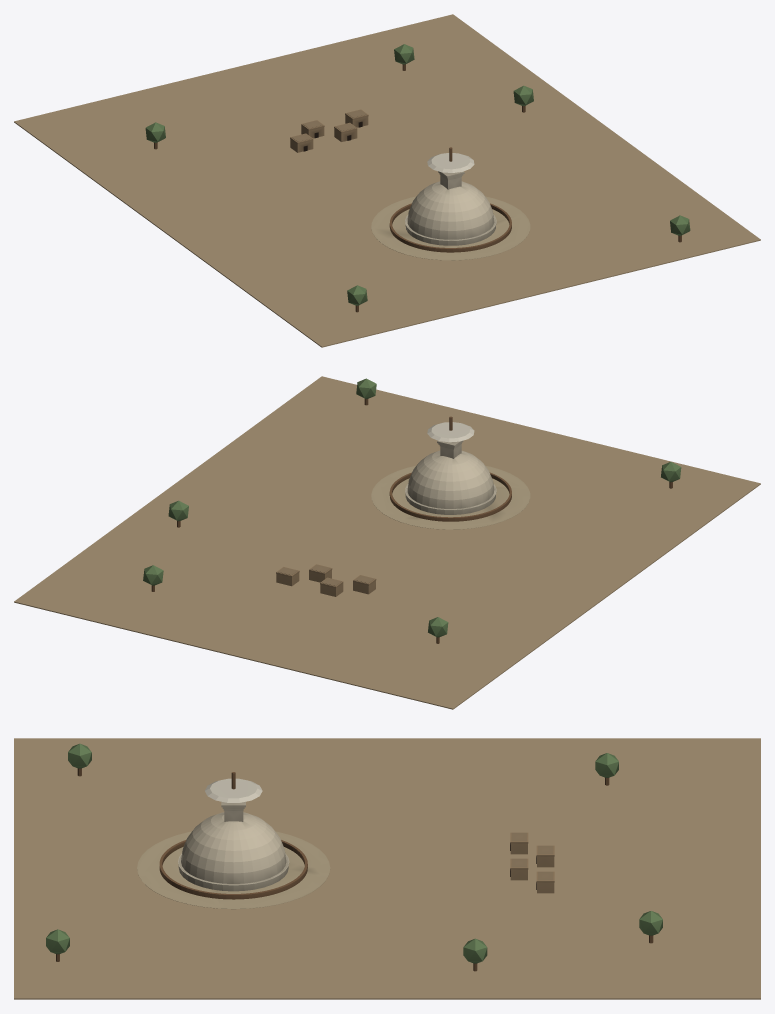
Rendered from dharmarajika-early.glb.
3 renders of one model, top to bottom at view 1: azimuth 30°, elevation 25°; view 2: azimuth 150°, elevation 25°; view 3: azimuth 270°, elevation 25°, orthographic. The views are drawn at different scales.
Visible parts, largest first — view 1: p0_terrace, p1_stupa, p2_monks; view 2: p0_terrace, p1_stupa, p2_monks; view 3: p0_terrace, p1_stupa, p2_monks.
Part boxes in pixels (left/top/right/bottom): p0_terrace: left=14, top=14, right=760, bottom=347; p1_stupa: left=389, top=147, right=511, bottom=252; p2_monks: left=145, top=44, right=690, bottom=312; p0_terrace: left=14, top=376, right=760, bottom=709; p1_stupa: left=389, top=416, right=511, bottom=521; p2_monks: left=143, top=378, right=681, bottom=643; p0_terrace: left=14, top=738, right=760, bottom=999; p1_stupa: left=159, top=772, right=307, bottom=899; p2_monks: left=46, top=743, right=662, bottom=971.
Bounding box in the file's own units: 140 × 24.36 × 170.
